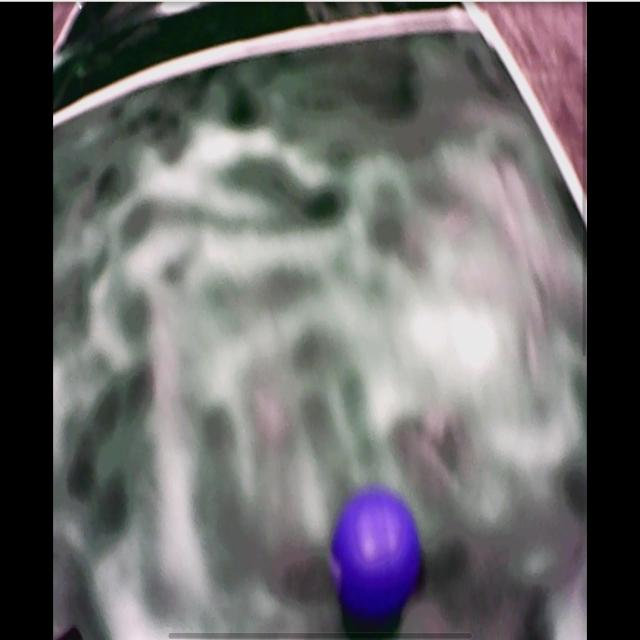ball: (333, 489, 422, 612)
